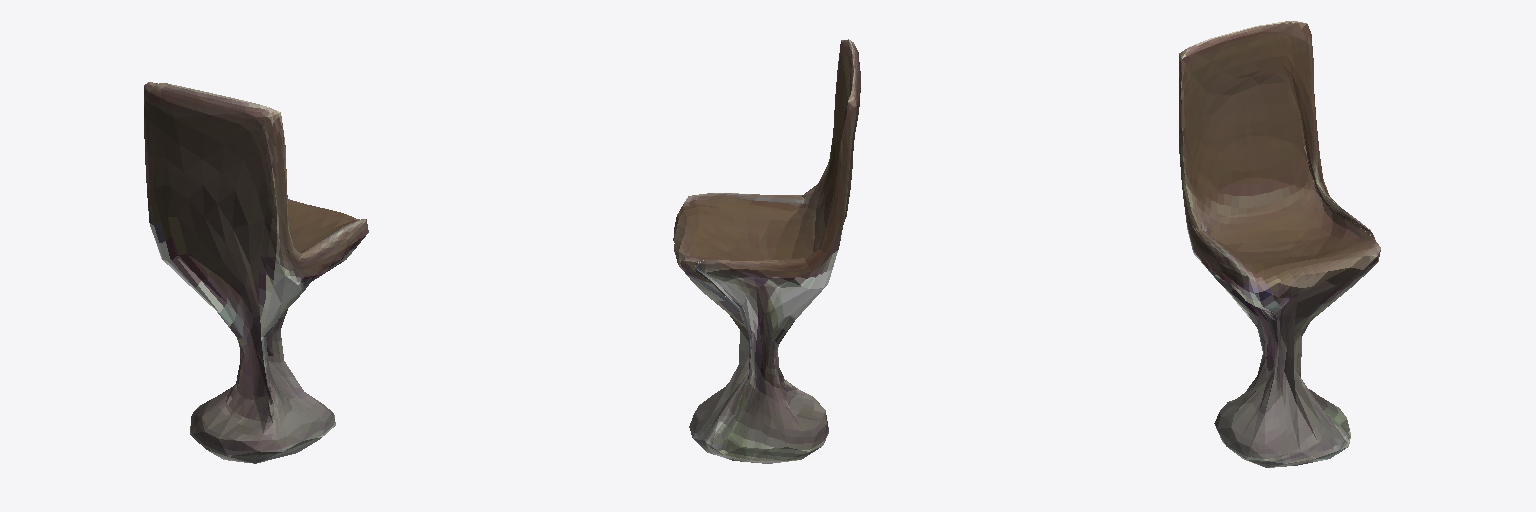
The picture shows the model from 3 angles: view 1: azimuth 30°, elevation 25°; view 2: azimuth 150°, elevation 25°; view 3: azimuth 270°, elevation 25°; orthographic projection.
Size of the model in its own units: 0.5385 by 1 by 0.4736.
Materials: 1 (1 with a texture image).